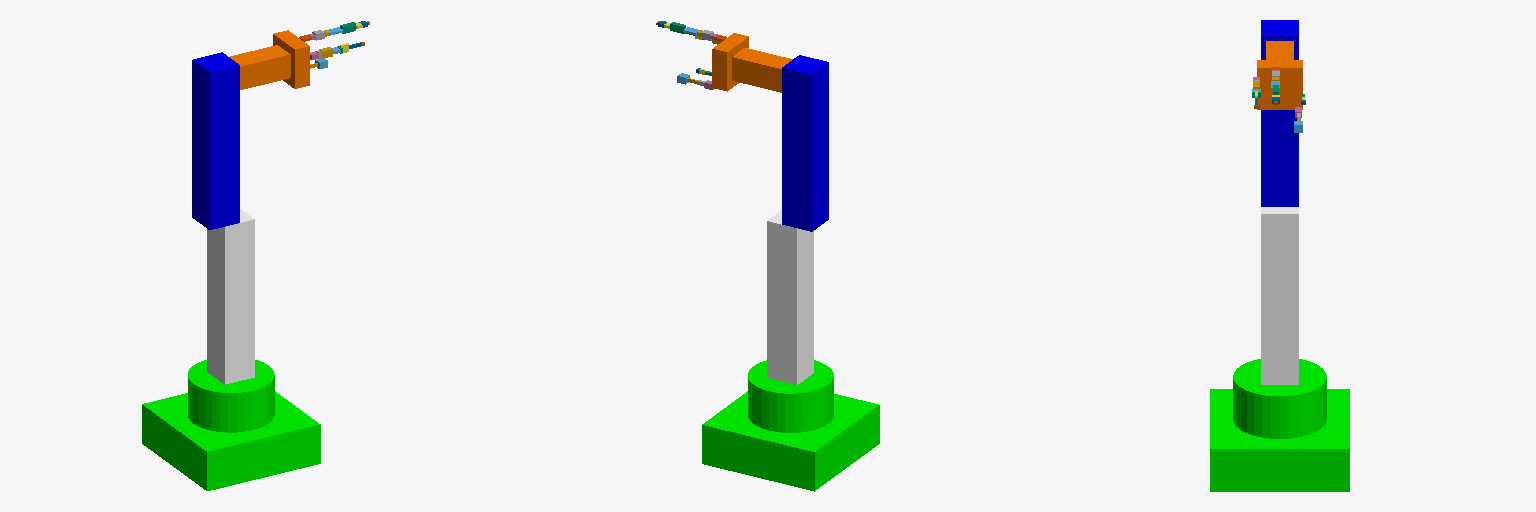
The robot description file, URDF, robot "robot":
<?xml version='1.0' encoding='utf-8'?>
<robot name="robot">
  <link name="base_link">
    <visual>
      <origin xyz="0 0 0.125" rpy="0 0 0" />
      <geometry>
        <box size="0.75 0.75 0.25" />
      </geometry>
      <material name="green" />
    </visual>
    <visual>
      <origin xyz="0 0 0.375" rpy="0 0 0" />
      <geometry>
        <cylinder length="0.25" radius="0.25" />
      </geometry>
      <material name="green">
        <color rgba="0 1 0 1" />
      </material>
    </visual>
    <collision>
      <geometry>
        <box size="0.75 0.75 0.5" />
      </geometry>
    </collision>
    <inertial>
      <mass value="0.5" />
      <inertia ixx="0.034" ixy="0.0" ixz="0.0" iyy="0.034" iyz="0.0" izz="0.034" />
    </inertial>
  </link>
  <link name="support_link">
    <visual>
      <origin xyz="0 0 0.5" rpy="0 0 0" />
      <geometry>
        <box size="0.2 0.2 1" />
      </geometry>
      <material name="white">
        <color rgba="1 1 1 1" />
      </material>
    </visual>
    <collision>
      <geometry>
        <box size="0.2 0.2 1" />
      </geometry>
    </collision>
    <inertial>
      <mass value="0.1" />
      <inertia ixx="0.01" ixy="0.0" ixz="0.0" iyy="0.01" iyz="0.0" izz="0.01" />
    </inertial>
  </link>
  <joint name="support_joint" type="continuous">
    <origin xyz="0 0 0.5" rpy="0 0 0" />
    <parent link="base_link" />
    <child link="support_link" />
    <axis xyz="0 0 1" />
  </joint>
  <link name="arm_link">
    <visual>
      <origin xyz="0 0 0.5" rpy="0 0 0" />
      <geometry>
        <box size="0.2 0.2 1" />
      </geometry>
      <material name="blue">
        <color rgba="0 0 1 1" />
      </material>
    </visual>
    <collision>
      <geometry>
        <box size="0.2 0.2 1" />
      </geometry>
    </collision>
    <inertial>
      <mass value="0.1" />
      <inertia ixx="0.01" ixy="0.0" ixz="0.0" iyy="0.01" iyz="0.0" izz="0.01" />
    </inertial>
  </link>
  <joint name="arm_joint" type="revolute">
    <origin xyz="-0.1 0 1" rpy="0 0 0" />
    <parent link="support_link" />
    <child link="arm_link" />
    <axis xyz="0 1 0" />
    <limit lower="-3.14" upper="3.14" effort="1.0" velocity="1.0" />
  </joint>
  <link name="wrist_link">
    <visual>
      <origin xyz="0 0 0.25" rpy="0 0 0" />
      <geometry>
        <box size="0.15 0.15 0.5" />
      </geometry>
      <material name="orange">
        <color rgba="1 0.5 0 1" />
      </material>
    </visual>
    <collision>
      <geometry>
        <box size="0.15 0.15 0.5" />
      </geometry>
    </collision>
    <inertial>
      <mass value="0.1" />
      <inertia ixx="0.01" ixy="0.0" ixz="0.0" iyy="0.01" iyz="0.0" izz="0.01" />
    </inertial>
  </link>
  <joint name="wrist_joint" type="fixed">
    <origin xyz="0 0 0.9" rpy="0 1.571 0" />
    <parent link="arm_link" />
    <child link="wrist_link" />
  </joint>
  <link name="palm_link">
    <visual>
      <origin xyz="0 0 0.05" rpy="0 0 0" />
      <geometry>
        <box size="0.25 0.25 0.1" />
      </geometry>
      <material name="orange" />
    </visual>
    <collision>
      <geometry>
        <box size="0.25 0.25 0.1" />
      </geometry>
    </collision>
    <inertial>
      <mass value="0.1" />
      <inertia ixx="0.01" ixy="0.0" ixz="0.0" iyy="0.01" iyz="0.0" izz="0.01" />
    </inertial>
  </link>
  <joint name="palm_joint" type="fixed">
    <origin xyz="0 0 0.45" rpy="0 0 0" />
    <parent link="wrist_link" />
    <child link="palm_link" />
  </joint>
  <link name="finger_link_0_0">
    <visual>
      <origin xyz="0 0 0.028" rpy="0 0 0" />
      <geometry>
        <box size="0.014 0.049 0.056" />
      </geometry>
    </visual>
    <collision>
      <geometry>
        <box size="0.014 0.049 0.056" />
      </geometry>
    </collision>
    <inertial>
      <mass value="0.012" />
      <inertia ixx="0.0" iyy="0.0" izz="0.0" ixy="0" ixz="0" iyz="0" />
    </inertial>
  </link>
  <joint name="finger_joint_palm_link_to_finger_link_0_0" type="revolute">
    <origin xyz="-0.125 -0.022 0.1" rpy="0 0 0" />
    <parent link="palm_link" />
    <child link="finger_link_0_0" />
    <axis xyz="0.0 -1.0 0.0" />
    <limit lower="-3.142" upper="3.142" effort="10" velocity="10" />
  </joint>
  <link name="finger_link_0_1">
    <visual>
      <origin xyz="0 0 0.016" rpy="0 0 0" />
      <geometry>
        <box size="0.022 0.037 0.032" />
      </geometry>
    </visual>
    <collision>
      <geometry>
        <box size="0.022 0.037 0.032" />
      </geometry>
    </collision>
    <inertial>
      <mass value="0.008" />
      <inertia ixx="0.0" iyy="0.0" izz="0.0" ixy="0" ixz="0" iyz="0" />
    </inertial>
  </link>
  <joint name="finger_joint_finger_link_0_0_to_finger_link_0_1" type="revolute">
    <origin xyz="0.0 0.0 0.056" rpy="0 0 0" />
    <parent link="finger_link_0_0" />
    <child link="finger_link_0_1" />
    <axis xyz="1.0 0.0 0.0" />
    <limit lower="-3.142" upper="3.142" effort="10" velocity="10" />
  </joint>
  <link name="finger_link_0_2">
    <visual>
      <origin xyz="0 0 0.0275" rpy="0 0 0" />
      <geometry>
        <box size="0.04 0.043 0.055" />
      </geometry>
    </visual>
    <collision>
      <geometry>
        <box size="0.04 0.043 0.055" />
      </geometry>
    </collision>
    <inertial>
      <mass value="0.028" />
      <inertia ixx="0.0" iyy="0.0" izz="0.0" ixy="0" ixz="0" iyz="0" />
    </inertial>
  </link>
  <joint name="finger_joint_finger_link_0_1_to_finger_link_0_2" type="revolute">
    <origin xyz="0.0 0.0 0.032" rpy="0 0 0" />
    <parent link="finger_link_0_1" />
    <child link="finger_link_0_2" />
    <axis xyz="1.0 0.0 0.0" />
    <limit lower="-3.142" upper="3.142" effort="10" velocity="10" />
  </joint>
  <link name="finger_link_0_3">
    <visual>
      <origin xyz="0 0 0.0175" rpy="0 0 0" />
      <geometry>
        <box size="0.024 0.036 0.035" />
      </geometry>
    </visual>
    <collision>
      <geometry>
        <box size="0.024 0.036 0.035" />
      </geometry>
    </collision>
    <inertial>
      <mass value="0.009" />
      <inertia ixx="0.0" iyy="0.0" izz="0.0" ixy="0" ixz="0" iyz="0" />
    </inertial>
  </link>
  <joint name="finger_joint_finger_link_0_2_to_finger_link_0_3" type="revolute">
    <origin xyz="0.0 0.0 0.055" rpy="0 0 0" />
    <parent link="finger_link_0_2" />
    <child link="finger_link_0_3" />
    <axis xyz="1.0 0.0 0.0" />
    <limit lower="-3.142" upper="3.142" effort="10" velocity="10" />
  </joint>
  <link name="finger_link_0_4">
    <visual>
      <origin xyz="0 0 0.044" rpy="0 0 0" />
      <geometry>
        <box size="0.015 0.049 0.088" />
      </geometry>
    </visual>
    <collision>
      <geometry>
        <box size="0.015 0.049 0.088" />
      </geometry>
    </collision>
    <inertial>
      <mass value="0.019" />
      <inertia ixx="0.0" iyy="0.0" izz="0.0" ixy="0" ixz="0" iyz="0" />
    </inertial>
  </link>
  <joint name="finger_joint_finger_link_0_3_to_finger_link_0_4" type="revolute">
    <origin xyz="0.0 0.0 0.035" rpy="0 0 0" />
    <parent link="finger_link_0_3" />
    <child link="finger_link_0_4" />
    <axis xyz="0.0 1.0 0.0" />
    <limit lower="-3.142" upper="3.142" effort="10" velocity="10" />
  </joint>
  <link name="finger_link_0_5">
    <visual>
      <origin xyz="0 0 0.0455" rpy="0 0 0" />
      <geometry>
        <box size="0.045 0.03 0.091" />
      </geometry>
    </visual>
    <collision>
      <geometry>
        <box size="0.045 0.03 0.091" />
      </geometry>
    </collision>
    <inertial>
      <mass value="0.037" />
      <inertia ixx="0.0" iyy="0.0" izz="0.0" ixy="0" ixz="0" iyz="0" />
    </inertial>
  </link>
  <joint name="finger_joint_finger_link_0_4_to_finger_link_0_5" type="revolute">
    <origin xyz="0.0 0.0 0.088" rpy="0 0 0" />
    <parent link="finger_link_0_4" />
    <child link="finger_link_0_5" />
    <axis xyz="1.0 0.0 0.0" />
    <limit lower="-3.142" upper="3.142" effort="10" velocity="10" />
  </joint>
  <link name="finger_link_0_6">
    <visual>
      <origin xyz="0 0 0.02" rpy="0 0 0" />
      <geometry>
        <box size="0.016 0.041 0.04" />
      </geometry>
    </visual>
    <collision>
      <geometry>
        <box size="0.016 0.041 0.04" />
      </geometry>
    </collision>
    <inertial>
      <mass value="0.008" />
      <inertia ixx="0.0" iyy="0.0" izz="0.0" ixy="0" ixz="0" iyz="0" />
    </inertial>
  </link>
  <joint name="finger_joint_finger_link_0_5_to_finger_link_0_6" type="revolute">
    <origin xyz="0.0 0.0 0.091" rpy="0 0 0" />
    <parent link="finger_link_0_5" />
    <child link="finger_link_0_6" />
    <axis xyz="1.0 0.0 0.0" />
    <limit lower="-3.142" upper="3.142" effort="10" velocity="10" />
  </joint>
  <link name="finger_link_0_7">
    <visual>
      <origin xyz="0 0 0.0185" rpy="0 0 0" />
      <geometry>
        <box size="0.022 0.041 0.037" />
      </geometry>
    </visual>
    <collision>
      <geometry>
        <box size="0.022 0.041 0.037" />
      </geometry>
    </collision>
    <inertial>
      <mass value="0.01" />
      <inertia ixx="0.0" iyy="0.0" izz="0.0" ixy="0" ixz="0" iyz="0" />
    </inertial>
  </link>
  <joint name="finger_joint_finger_link_0_6_to_finger_link_0_7" type="revolute">
    <origin xyz="0.0 0.0 0.04" rpy="0 0 0" />
    <parent link="finger_link_0_6" />
    <child link="finger_link_0_7" />
    <axis xyz="1.0 0.0 0.0" />
    <limit lower="-3.142" upper="3.142" effort="10" velocity="10" />
  </joint>
  <link name="finger_link_0_8">
    <visual>
      <origin xyz="0 0 0.0085" rpy="0 0 0" />
      <geometry>
        <box size="0.013 0.023 0.017" />
      </geometry>
    </visual>
    <collision>
      <geometry>
        <box size="0.013 0.023 0.017" />
      </geometry>
    </collision>
    <inertial>
      <mass value="0.002" />
      <inertia ixx="0.0" iyy="0.0" izz="0.0" ixy="0" ixz="0" iyz="0" />
    </inertial>
  </link>
  <joint name="finger_joint_finger_link_0_7_to_finger_link_0_8" type="revolute">
    <origin xyz="0.0 0.0 0.037" rpy="0 0 0" />
    <parent link="finger_link_0_7" />
    <child link="finger_link_0_8" />
    <axis xyz="1.0 0.0 0.0" />
    <limit lower="-3.142" upper="3.142" effort="10" velocity="10" />
  </joint>
  <link name="finger_link_1_0">
    <visual>
      <origin xyz="0 0 0.0245" rpy="0 0 0" />
      <geometry>
        <box size="0.032 0.035 0.049" />
      </geometry>
    </visual>
    <collision>
      <geometry>
        <box size="0.032 0.035 0.049" />
      </geometry>
    </collision>
    <inertial>
      <mass value="0.016" />
      <inertia ixx="0.0" iyy="0.0" izz="0.0" ixy="0" ixz="0" iyz="0" />
    </inertial>
  </link>
  <joint name="finger_joint_palm_link_to_finger_link_1_0" type="revolute">
    <origin xyz="-0.057 -0.125 0.1" rpy="0 0 0" />
    <parent link="palm_link" />
    <child link="finger_link_1_0" />
    <axis xyz="1.0 0.0 0.0" />
    <limit lower="-3.142" upper="3.142" effort="10" velocity="10" />
  </joint>
  <link name="finger_link_1_1">
    <visual>
      <origin xyz="0 0 0.0105" rpy="0 0 0" />
      <geometry>
        <box size="0.042 0.027 0.021" />
      </geometry>
    </visual>
    <collision>
      <geometry>
        <box size="0.042 0.027 0.021" />
      </geometry>
    </collision>
    <inertial>
      <mass value="0.007" />
      <inertia ixx="0.0" iyy="0.0" izz="0.0" ixy="0" ixz="0" iyz="0" />
    </inertial>
  </link>
  <joint name="finger_joint_finger_link_1_0_to_finger_link_1_1" type="revolute">
    <origin xyz="0.0 0.0 0.049" rpy="0 0 0" />
    <parent link="finger_link_1_0" />
    <child link="finger_link_1_1" />
    <axis xyz="1.0 0.0 0.0" />
    <limit lower="-3.142" upper="3.142" effort="10" velocity="10" />
  </joint>
  <link name="finger_link_1_2">
    <visual>
      <origin xyz="0 0 0.035" rpy="0 0 0" />
      <geometry>
        <box size="0.047 0.034 0.07" />
      </geometry>
    </visual>
    <collision>
      <geometry>
        <box size="0.047 0.034 0.07" />
      </geometry>
    </collision>
    <inertial>
      <mass value="0.034" />
      <inertia ixx="0.0" iyy="0.0" izz="0.0" ixy="0" ixz="0" iyz="0" />
    </inertial>
  </link>
  <joint name="finger_joint_finger_link_1_1_to_finger_link_1_2" type="revolute">
    <origin xyz="0.0 0.0 0.021" rpy="0 0 0" />
    <parent link="finger_link_1_1" />
    <child link="finger_link_1_2" />
    <axis xyz="1.0 0.0 0.0" />
    <limit lower="-3.142" upper="3.142" effort="10" velocity="10" />
  </joint>
  <link name="finger_link_1_3">
    <visual>
      <origin xyz="0 0 0.025" rpy="0 0 0" />
      <geometry>
        <box size="0.019 0.044 0.05" />
      </geometry>
    </visual>
    <collision>
      <geometry>
        <box size="0.019 0.044 0.05" />
      </geometry>
    </collision>
    <inertial>
      <mass value="0.013" />
      <inertia ixx="0.0" iyy="0.0" izz="0.0" ixy="0" ixz="0" iyz="0" />
    </inertial>
  </link>
  <joint name="finger_joint_finger_link_1_2_to_finger_link_1_3" type="revolute">
    <origin xyz="0.0 0.0 0.07" rpy="0 0 0" />
    <parent link="finger_link_1_2" />
    <child link="finger_link_1_3" />
    <axis xyz="1.0 0.0 0.0" />
    <limit lower="-3.142" upper="3.142" effort="10" velocity="10" />
  </joint>
  <link name="finger_link_1_4">
    <visual>
      <origin xyz="0 0 0.0065" rpy="0 0 0" />
      <geometry>
        <box size="0.03 0.044 0.013" />
      </geometry>
    </visual>
    <collision>
      <geometry>
        <box size="0.03 0.044 0.013" />
      </geometry>
    </collision>
    <inertial>
      <mass value="0.005" />
      <inertia ixx="0.0" iyy="0.0" izz="0.0" ixy="0" ixz="0" iyz="0" />
    </inertial>
  </link>
  <joint name="finger_joint_finger_link_1_3_to_finger_link_1_4" type="revolute">
    <origin xyz="0.0 0.0 0.05" rpy="0 0 0" />
    <parent link="finger_link_1_3" />
    <child link="finger_link_1_4" />
    <axis xyz="0.0 1.0 0.0" />
    <limit lower="-3.142" upper="3.142" effort="10" velocity="10" />
  </joint>
  <link name="finger_link_1_5">
    <visual>
      <origin xyz="0 0 0.0265" rpy="0 0 0" />
      <geometry>
        <box size="0.049 0.017 0.053" />
      </geometry>
    </visual>
    <collision>
      <geometry>
        <box size="0.049 0.017 0.053" />
      </geometry>
    </collision>
    <inertial>
      <mass value="0.013" />
      <inertia ixx="0.0" iyy="0.0" izz="0.0" ixy="0" ixz="0" iyz="0" />
    </inertial>
  </link>
  <joint name="finger_joint_finger_link_1_4_to_finger_link_1_5" type="revolute">
    <origin xyz="0.0 0.0 0.013" rpy="0 0 0" />
    <parent link="finger_link_1_4" />
    <child link="finger_link_1_5" />
    <axis xyz="0.0 1.0 0.0" />
    <limit lower="-3.142" upper="3.142" effort="10" velocity="10" />
  </joint>
  <link name="finger_link_1_6">
    <visual>
      <origin xyz="0 0 0.042" rpy="0 0 0" />
      <geometry>
        <box size="0.02 0.011 0.084" />
      </geometry>
    </visual>
    <collision>
      <geometry>
        <box size="0.02 0.011 0.084" />
      </geometry>
    </collision>
    <inertial>
      <mass value="0.006" />
      <inertia ixx="0.0" iyy="0.0" izz="0.0" ixy="0" ixz="0" iyz="0" />
    </inertial>
  </link>
  <joint name="finger_joint_finger_link_1_5_to_finger_link_1_6" type="revolute">
    <origin xyz="0.0 0.0 0.053" rpy="0 0 0" />
    <parent link="finger_link_1_5" />
    <child link="finger_link_1_6" />
    <axis xyz="1.0 0.0 0.0" />
    <limit lower="-3.142" upper="3.142" effort="10" velocity="10" />
  </joint>
  <link name="finger_link_1_7">
    <visual>
      <origin xyz="0 0 0.0095" rpy="0 0 0" />
      <geometry>
        <box size="0.017 0.025 0.019" />
      </geometry>
    </visual>
    <collision>
      <geometry>
        <box size="0.017 0.025 0.019" />
      </geometry>
    </collision>
    <inertial>
      <mass value="0.002" />
      <inertia ixx="0.0" iyy="0.0" izz="0.0" ixy="0" ixz="0" iyz="0" />
    </inertial>
  </link>
  <joint name="finger_joint_finger_link_1_6_to_finger_link_1_7" type="revolute">
    <origin xyz="0.0 0.0 0.084" rpy="0 0 0" />
    <parent link="finger_link_1_6" />
    <child link="finger_link_1_7" />
    <axis xyz="0.0 1.0 0.0" />
    <limit lower="-3.142" upper="3.142" effort="10" velocity="10" />
  </joint>
  <link name="finger_link_2_0">
    <visual>
      <origin xyz="0 0 0.028" rpy="0 0 0" />
      <geometry>
        <box size="0.037 0.04 0.056" />
      </geometry>
    </visual>
    <collision>
      <geometry>
        <box size="0.037 0.04 0.056" />
      </geometry>
    </collision>
    <inertial>
      <mass value="0.025" />
      <inertia ixx="0.0" iyy="0.0" izz="0.0" ixy="0" ixz="0" iyz="0" />
    </inertial>
  </link>
  <joint name="finger_joint_palm_link_to_finger_link_2_0" type="revolute">
    <origin xyz="0.125 0.099 0.1" rpy="0 0 0" />
    <parent link="palm_link" />
    <child link="finger_link_2_0" />
    <axis xyz="0.0 1.0 0.0" />
    <limit lower="-3.142" upper="3.142" effort="10" velocity="10" />
  </joint>
  <link name="finger_link_2_1">
    <visual>
      <origin xyz="0 0 0.028" rpy="0 0 0" />
      <geometry>
        <box size="0.024 0.021 0.056" />
      </geometry>
    </visual>
    <collision>
      <geometry>
        <box size="0.024 0.021 0.056" />
      </geometry>
    </collision>
    <inertial>
      <mass value="0.008" />
      <inertia ixx="0.0" iyy="0.0" izz="0.0" ixy="0" ixz="0" iyz="0" />
    </inertial>
  </link>
  <joint name="finger_joint_finger_link_2_0_to_finger_link_2_1" type="revolute">
    <origin xyz="0.0 0.0 0.056" rpy="0 0 0" />
    <parent link="finger_link_2_0" />
    <child link="finger_link_2_1" />
    <axis xyz="0.0 1.0 0.0" />
    <limit lower="-3.142" upper="3.142" effort="10" velocity="10" />
  </joint>
  <link name="finger_link_2_2">
    <visual>
      <origin xyz="0 0 0.0335" rpy="0 0 0" />
      <geometry>
        <box size="0.021 0.011 0.067" />
      </geometry>
    </visual>
    <collision>
      <geometry>
        <box size="0.021 0.011 0.067" />
      </geometry>
    </collision>
    <inertial>
      <mass value="0.005" />
      <inertia ixx="0.0" iyy="0.0" izz="0.0" ixy="0" ixz="0" iyz="0" />
    </inertial>
  </link>
  <joint name="finger_joint_finger_link_2_1_to_finger_link_2_2" type="revolute">
    <origin xyz="0.0 0.0 0.056" rpy="0 0 0" />
    <parent link="finger_link_2_1" />
    <child link="finger_link_2_2" />
    <axis xyz="0.0 1.0 0.0" />
    <limit lower="-3.142" upper="3.142" effort="10" velocity="10" />
  </joint>
  <link name="finger_link_2_3">
    <visual>
      <origin xyz="0 0 0.028" rpy="0 0 0" />
      <geometry>
        <box size="0.042 0.047 0.056" />
      </geometry>
    </visual>
    <collision>
      <geometry>
        <box size="0.042 0.047 0.056" />
      </geometry>
    </collision>
    <inertial>
      <mass value="0.033" />
      <inertia ixx="0.0" iyy="0.0" izz="0.0" ixy="0" ixz="0" iyz="0" />
    </inertial>
  </link>
  <joint name="finger_joint_finger_link_2_2_to_finger_link_2_3" type="revolute">
    <origin xyz="0.0 0.0 0.067" rpy="0 0 0" />
    <parent link="finger_link_2_2" />
    <child link="finger_link_2_3" />
    <axis xyz="1.0 0.0 0.0" />
    <limit lower="-3.142" upper="3.142" effort="10" velocity="10" />
  </joint>
  <link name="finger_link_3_0">
    <visual>
      <origin xyz="0 0 0.0225" rpy="0 0 0" />
      <geometry>
        <box size="0.016 0.02 0.045" />
      </geometry>
    </visual>
    <collision>
      <geometry>
        <box size="0.016 0.02 0.045" />
      </geometry>
    </collision>
    <inertial>
      <mass value="0.004" />
      <inertia ixx="0.0" iyy="0.0" izz="0.0" ixy="0" ixz="0" iyz="0" />
    </inertial>
  </link>
  <joint name="finger_joint_palm_link_to_finger_link_3_0" type="revolute">
    <origin xyz="0.037 0.125 0.1" rpy="0 0 0" />
    <parent link="palm_link" />
    <child link="finger_link_3_0" />
    <axis xyz="-1.0 0.0 0.0" />
    <limit lower="-3.142" upper="3.142" effort="10" velocity="10" />
  </joint>
  <link name="finger_link_3_1">
    <visual>
      <origin xyz="0 0 0.0185" rpy="0 0 0" />
      <geometry>
        <box size="0.028 0.014 0.037" />
      </geometry>
    </visual>
    <collision>
      <geometry>
        <box size="0.028 0.014 0.037" />
      </geometry>
    </collision>
    <inertial>
      <mass value="0.004" />
      <inertia ixx="0.0" iyy="0.0" izz="0.0" ixy="0" ixz="0" iyz="0" />
    </inertial>
  </link>
  <joint name="finger_joint_finger_link_3_0_to_finger_link_3_1" type="revolute">
    <origin xyz="0.0 0.0 0.045" rpy="0 0 0" />
    <parent link="finger_link_3_0" />
    <child link="finger_link_3_1" />
    <axis xyz="1.0 0.0 0.0" />
    <limit lower="-3.142" upper="3.142" effort="10" velocity="10" />
  </joint>
  <link name="finger_link_3_2">
    <visual>
      <origin xyz="0 0 0.0095" rpy="0 0 0" />
      <geometry>
        <box size="0.02 0.029 0.019" />
      </geometry>
    </visual>
    <collision>
      <geometry>
        <box size="0.02 0.029 0.019" />
      </geometry>
    </collision>
    <inertial>
      <mass value="0.003" />
      <inertia ixx="0.0" iyy="0.0" izz="0.0" ixy="0" ixz="0" iyz="0" />
    </inertial>
  </link>
  <joint name="finger_joint_finger_link_3_1_to_finger_link_3_2" type="revolute">
    <origin xyz="0.0 0.0 0.037" rpy="0 0 0" />
    <parent link="finger_link_3_1" />
    <child link="finger_link_3_2" />
    <axis xyz="1.0 0.0 0.0" />
    <limit lower="-3.142" upper="3.142" effort="10" velocity="10" />
  </joint>
</robot>

--- What the picture shows (computed from the rendered views, not written in the file) ---
Views: 3 orthographic renders of the robot side by side, from view 1: azimuth 30°, elevation 25°; view 2: azimuth 150°, elevation 25°; view 3: azimuth 270°, elevation 25°.
Robot: robot — 29 links, 28 joints (25 revolute, 1 continuous, 2 fixed); root link base_link; default pose: all joints at 0.
Links seen in each view (by area): view 1: base_link, arm_link, support_link, wrist_link, palm_link; view 2: base_link, arm_link, support_link, wrist_link, palm_link; view 3: base_link, support_link, arm_link, palm_link, wrist_link.
Boxes of the visible links, bbox=[...] form: base_link: bbox=[142, 360, 320, 490]; arm_link: bbox=[192, 52, 239, 229]; support_link: bbox=[207, 209, 254, 384]; wrist_link: bbox=[230, 45, 290, 89]; palm_link: bbox=[273, 30, 309, 88]; base_link: bbox=[702, 360, 879, 491]; arm_link: bbox=[782, 55, 828, 231]; support_link: bbox=[767, 210, 813, 384]; wrist_link: bbox=[732, 48, 792, 92]; palm_link: bbox=[712, 33, 748, 91]; base_link: bbox=[1210, 359, 1349, 491]; support_link: bbox=[1261, 207, 1298, 384]; arm_link: bbox=[1261, 20, 1298, 206]; palm_link: bbox=[1257, 60, 1302, 109]; wrist_link: bbox=[1266, 41, 1293, 59].
Bounding box of the posed robot: 1.28 × 0.75 × 2.55 m (x, y, z).
Geometry: primitives only (box / cylinder / sphere), no mesh files.